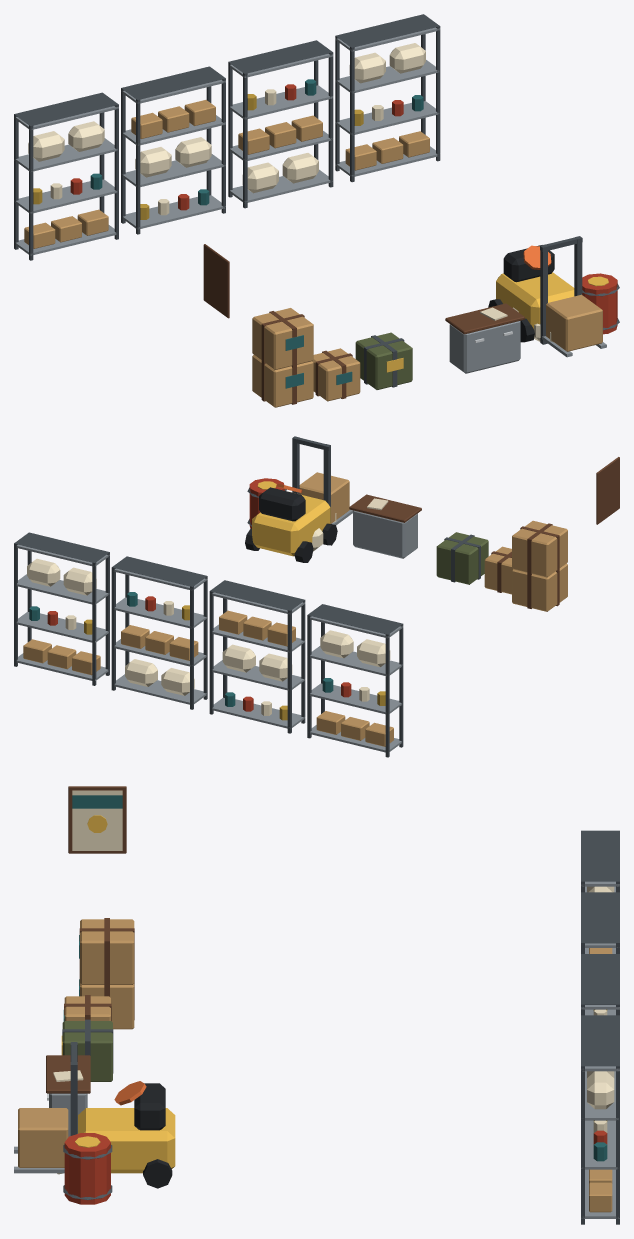
Rendered from Room_Storage_L3.fbx.
The picture shows the model from 3 angles, top to bottom: view 1: azimuth 30°, elevation 25°; view 2: azimuth 150°, elevation 25°; view 3: azimuth 270°, elevation 25°; orthographic projection. The views are drawn at different scales.
Visible parts, largest first — view 1: Decor, Desk1, Shelf2, Crate2, Shelf3, Shelf4, Shelf1, Crate4, Forklift1, Crate1, Crate3, Barrel1; view 2: Decor, Forklift1, Desk1, Crate2, Shelf2, Shelf3, Crate4, Shelf4, Shelf1, Crate1, Crate3, Barrel1; view 3: Decor, Forklift1, Crate2, Barrel1, Shelf4, Shelf1, Shelf2, Crate4, Shelf3, Crate1, Crate3, Desk1.
Part boxes in pixels (x1=…): Decor: x1=14, y1=26, x2=619, y2=404; Desk1: x1=449, y1=321, x2=520, y2=373; Shelf2: x1=121, y1=66, x2=225, y2=229; Crate2: x1=252, y1=308, x2=313, y2=369; Shelf3: x1=228, y1=40, x2=332, y2=203; Shelf4: x1=335, y1=14, x2=439, y2=176; Shelf1: x1=14, y1=92, x2=118, y2=255; Crate4: x1=355, y1=332, x2=412, y2=389; Forklift1: x1=496, y1=272, x2=574, y2=328; Crate1: x1=252, y1=355, x2=313, y2=407; Crate3: x1=312, y1=348, x2=360, y2=401; Barrel1: x1=582, y1=273, x2=617, y2=334; Decor: x1=14, y1=436, x2=619, y2=757; Forklift1: x1=252, y1=494, x2=330, y2=556; Desk1: x1=353, y1=510, x2=417, y2=558; Crate2: x1=512, y1=520, x2=567, y2=577; Shelf2: x1=210, y1=580, x2=305, y2=728; Shelf3: x1=112, y1=556, x2=207, y2=704; Crate4: x1=436, y1=532, x2=488, y2=584; Shelf4: x1=14, y1=532, x2=109, y2=680; Shelf1: x1=308, y1=604, x2=402, y2=752; Crate1: x1=512, y1=563, x2=567, y2=611; Crate3: x1=484, y1=546, x2=512, y2=594; Barrel1: x1=249, y1=478, x2=284, y2=528; Decor: x1=14, y1=786, x2=619, y2=1224; Forklift1: x1=78, y1=1108, x2=175, y2=1173; Crate2: x1=80, y1=919, x2=134, y2=984; Barrel1: x1=64, y1=1133, x2=110, y2=1204; Shelf4: x1=581, y1=1015, x2=619, y2=1218; Shelf1: x1=581, y1=830, x2=619, y2=881; Shelf2: x1=581, y1=892, x2=619, y2=943; Crate4: x1=62, y1=1021, x2=112, y2=1081; Shelf3: x1=581, y1=954, x2=619, y2=1004; Crate1: x1=80, y1=983, x2=134, y2=1029; Crate3: x1=64, y1=996, x2=110, y2=1020; Desk1: x1=49, y1=1093, x2=87, y2=1136.
Bounding box in the file's own units: 30.1 × 10.92 × 31.2.
